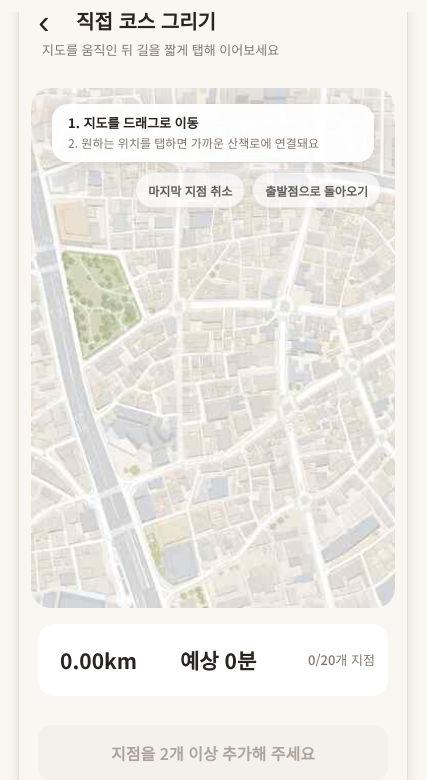
Scenario: DrawCoursePage › undoes the last point together with its connected segments and cumulative metrics
Click the button named "지도에 지점 추가" at (213, 348), box [31,88,395,608]
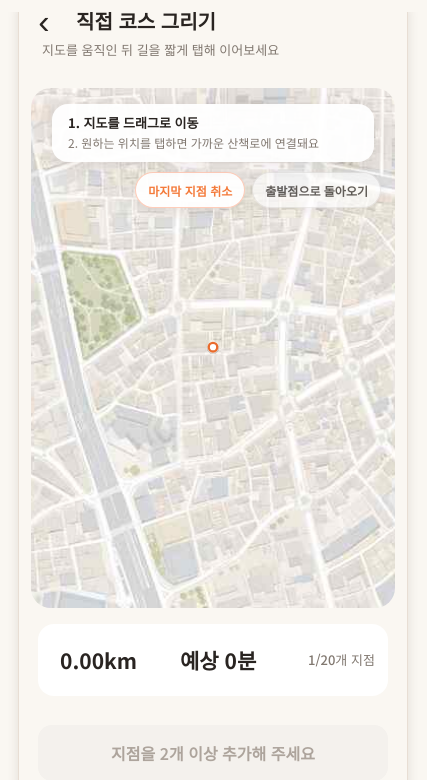
Now the text "1/20개 지점" is shown, box [308,650,375,670]
Click the button named "지도에 지점 추가" at (213, 348), box [31,88,395,608]
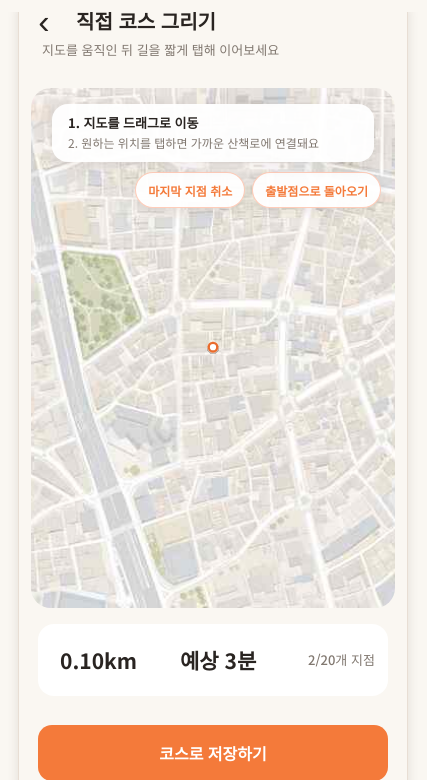
Now the text "0.10km" is shown, box [60,644,137,674]
Click the button named "지도에 지점 추가" at (213, 348), box [31,88,395,608]
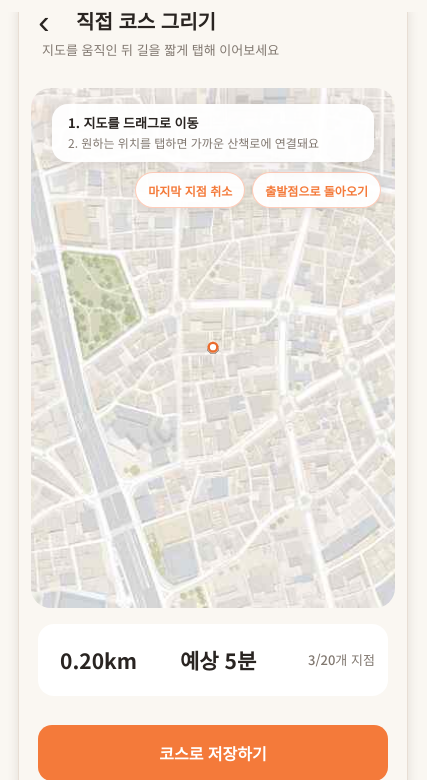
Now the text "0.20km" is shown, box [60,644,137,674]
Click the button "마지막 지점 취소" at (190, 190), box [135,172,245,208]
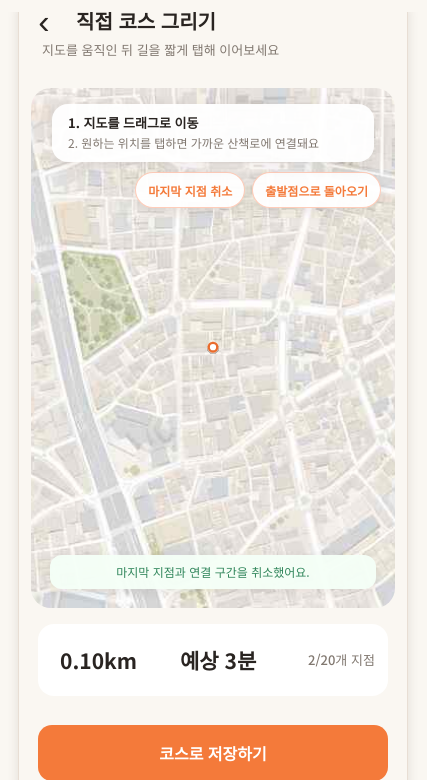
Now the text "2/20개 지점" is shown, box [308,650,375,670]
Now the text "0.10km" is shown, box [60,644,137,674]
Now the text "마지막 지점과 연결 구간을 취소했어요." is shown, box [50,555,376,589]
